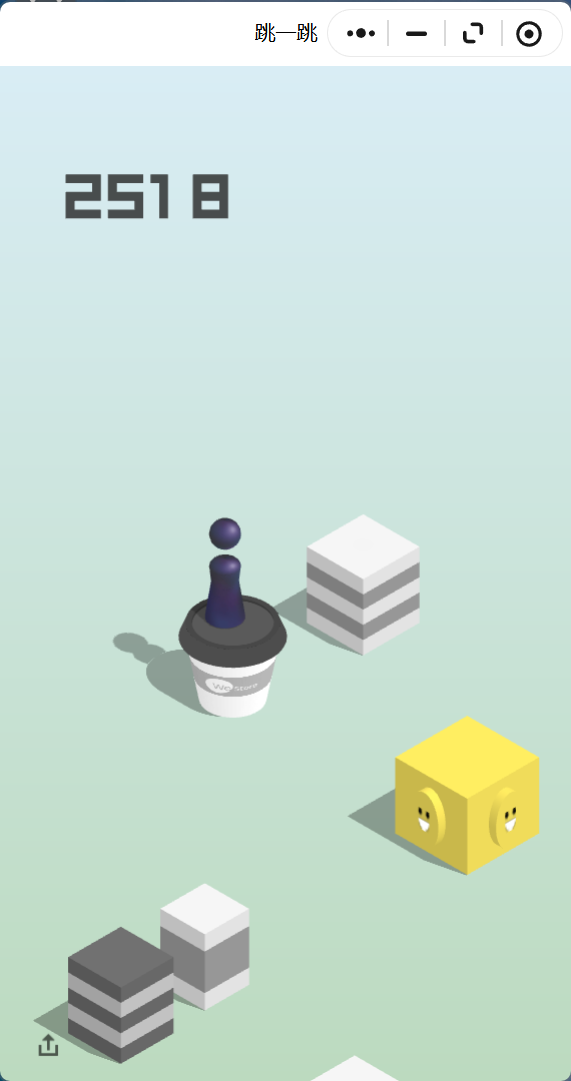piece: (209, 518, 241, 623)
target: (307, 513, 420, 579)
